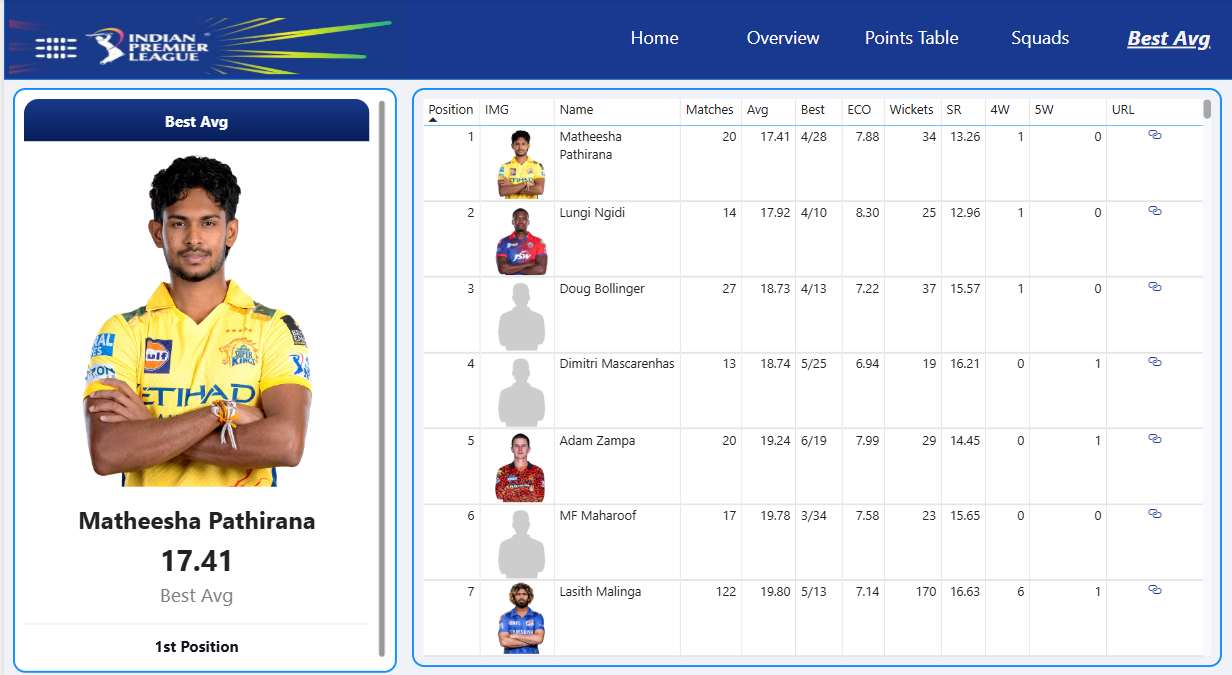

The page's visual inventory and layout, read from the dashboard file:
{"tool":"powerbi","page":{"name":"Best Avg","canvas":[1280,720],"ordinal":10},"visuals":[{"type":"shape","box":[0,0,2000.6,85],"z":0},{"type":"image","box":[0,0,425.1,84.4],"z":1000},{"type":"pageNavigator","box":[615.8,17.2,664.3,46.9],"z":2000},{"type":"htmlContent443BE3AD55E043BF878BED274D3A6855","fields":{"content":["Records.Top_Players"]},"box":[9.4,93.8,400.1,609.6],"z":3000},{"type":"tableEx","fields":{"Values":["BestAvg.Position","BestAvg.IMG","BestAvg.Name","BestAvg.Mat","BestAvg.Avg","BestAvg.BBI","BestAvg.ECO","BestAvg.Wickets","BestAvg.SR","BestAvg.4W","BestAvg.5W","BestAvg.URL"]},"box":[425.1,93.8,844,603.3],"z":4000}]}

Visuals, with their boxes in screenshot pixels (x1, y1, x2, y2), scaled from the page's 1280x720 canvas onto the 1232x675 screenshot:
shape: 0/0/1231/80
image: 0/0/409/79
pageNavigator: 593/16/1231/60
htmlContent443BE3AD55E043BF878BED274D3A6855 - Records.Top_Players: 9/88/394/659
tableEx - BestAvg.Position x BestAvg.IMG: 409/88/1222/654
